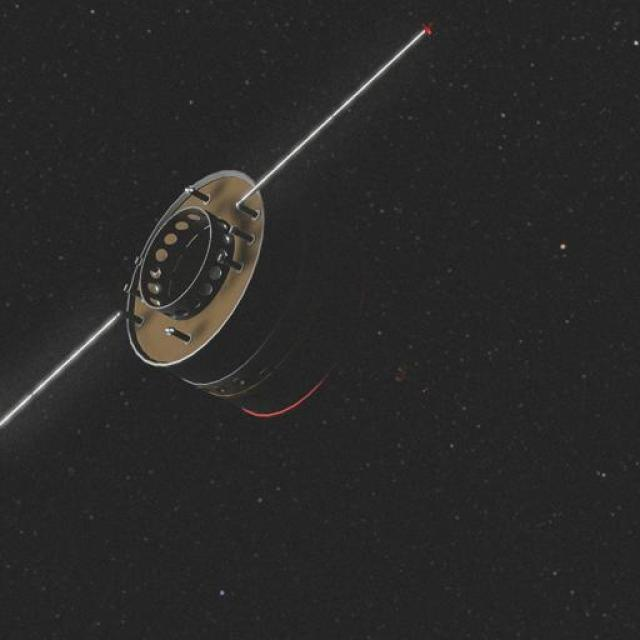double_start: (90, 104, 384, 473)
